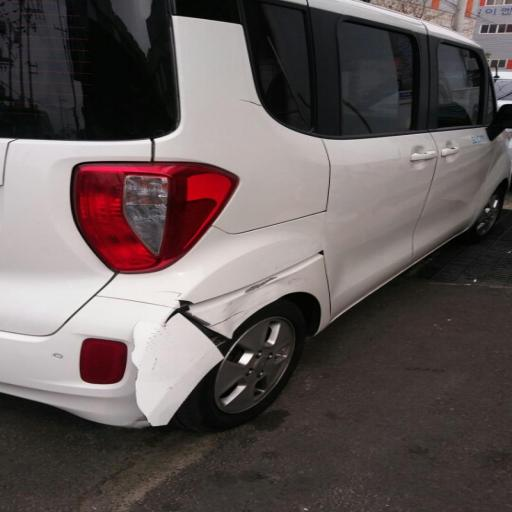broken: (77, 279, 387, 419)
